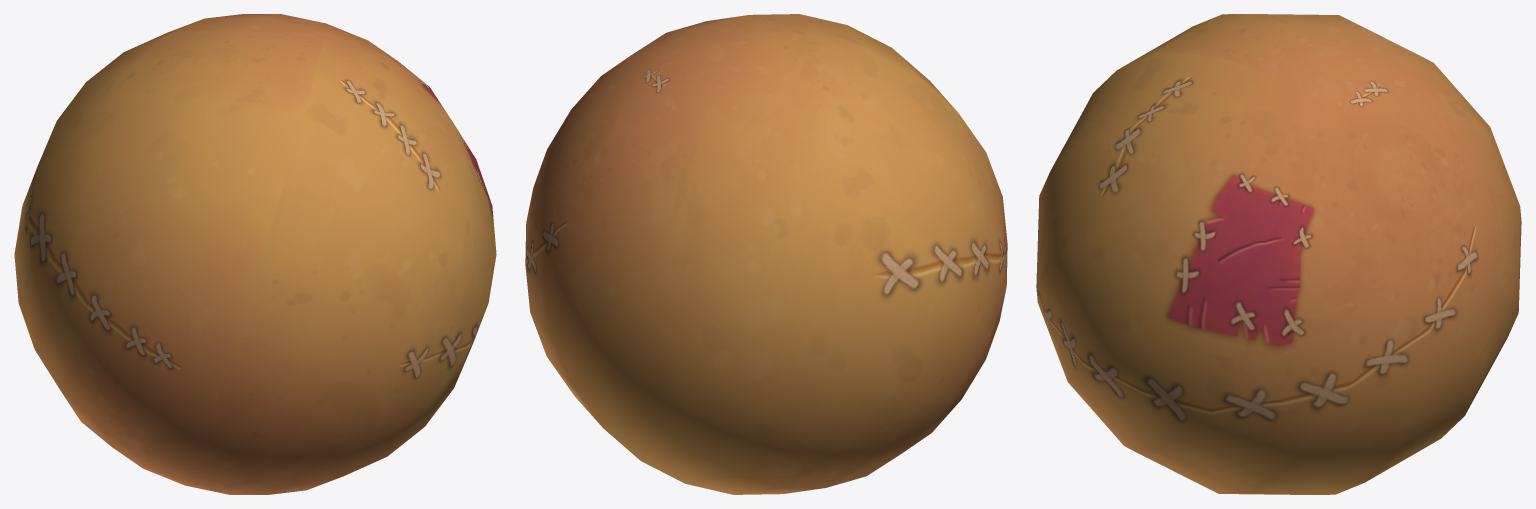
File: bola.fbx
3 views of the same model, side by side, from view 1: azimuth 30°, elevation 25°; view 2: azimuth 150°, elevation 25°; view 3: azimuth 270°, elevation 25° (orthographic). The views are drawn at different scales.
Parts seen in each view (by area): view 1: bola; view 2: bola; view 3: bola.
Boxes of the visible parts, box(x1,y1,x2,y2) form: bola: box(14, 14, 496, 494); bola: box(525, 14, 1007, 494); bola: box(1036, 14, 1521, 494).
Size of the model in its own units: 110 by 110 by 108.
1 material, 1 textured.
